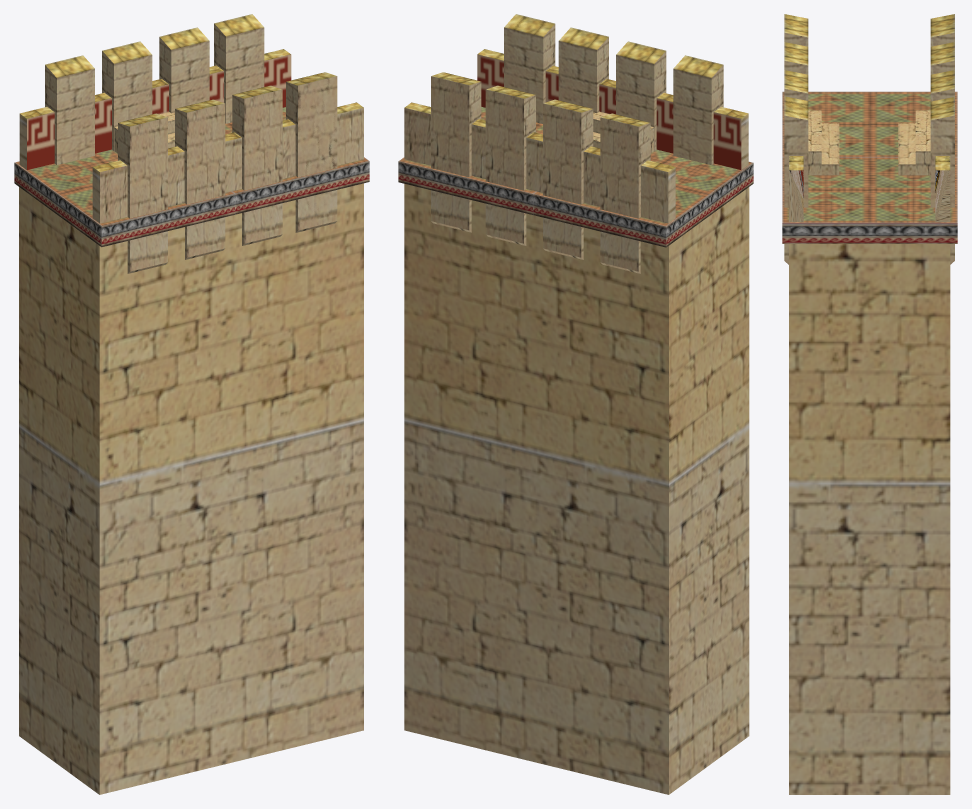
File: wall_short.dae
3 views of the same model, side by side, from view 1: azimuth 30°, elevation 25°; view 2: azimuth 150°, elevation 25°; view 3: azimuth 270°, elevation 25° (orthographic).
Parts seen in each view (by area): view 1: wall_medium; view 2: wall_medium; view 3: wall_medium.
Part boxes in pixels (left/top/right/bottom): wall_medium: left=14, top=14, right=369, bottom=794; wall_medium: left=398, top=14, right=753, bottom=794; wall_medium: left=782, top=14, right=957, bottom=794.
Size of the model in its own units: 8.62 by 4.86 by 20.39.
